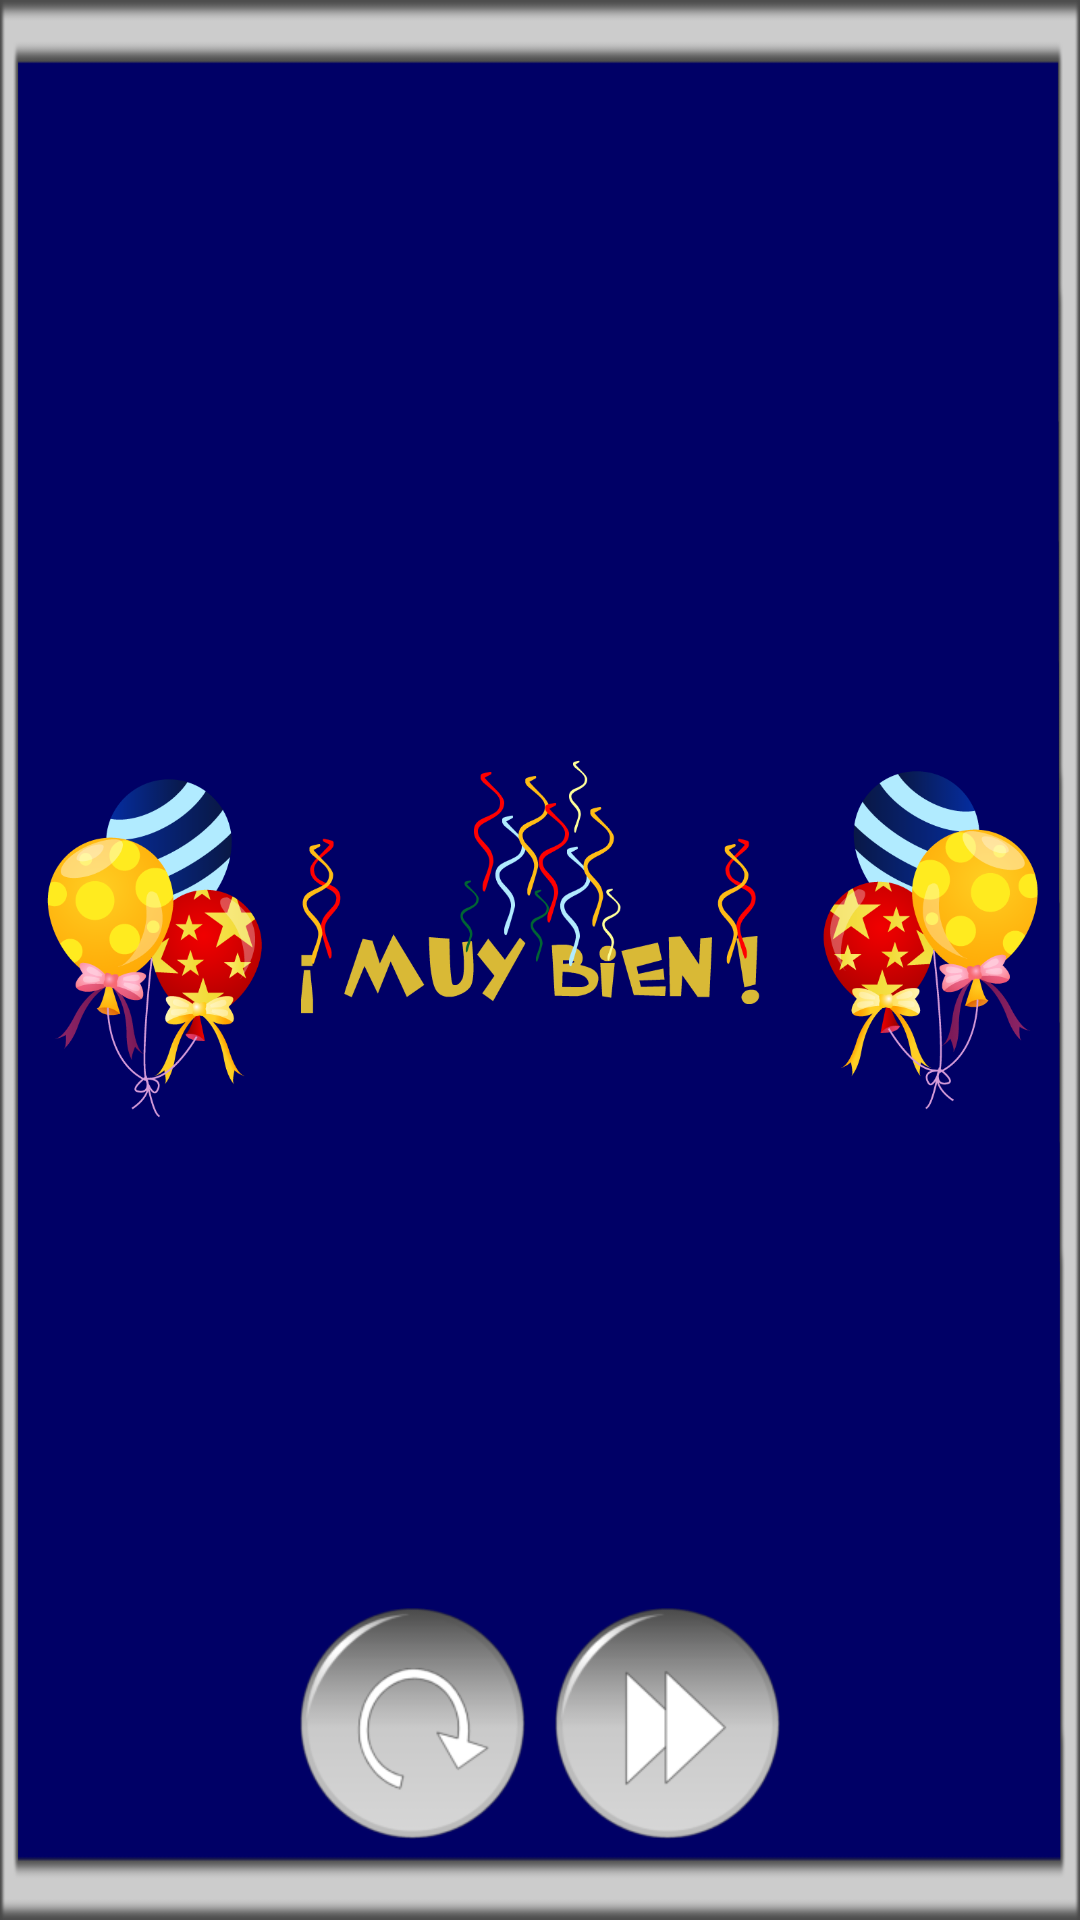

Named icons in this screenshot (1080px×1920px) and their centers, point (x, y):
next: point (667, 1723)
restart: point (412, 1723)
